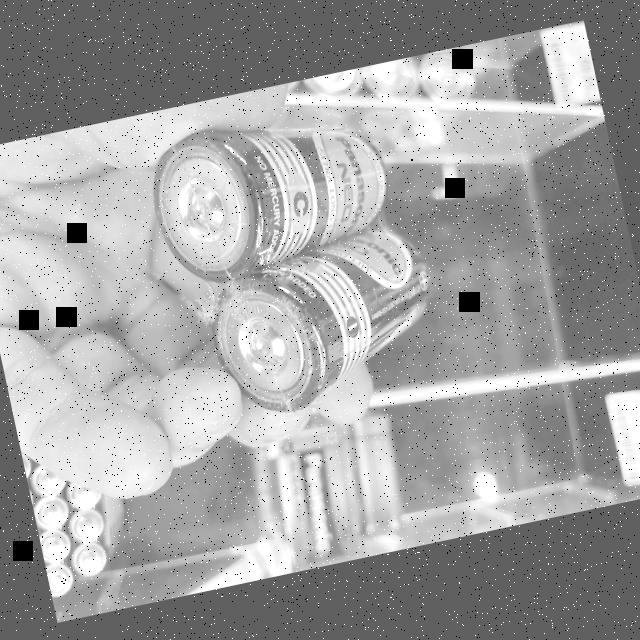battery: (202, 198, 462, 418), (138, 93, 426, 290)
